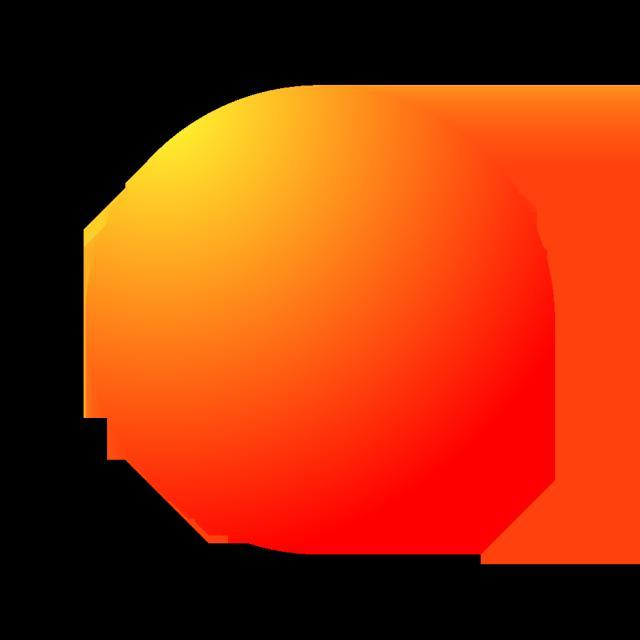Circle: (79, 81, 561, 558)
